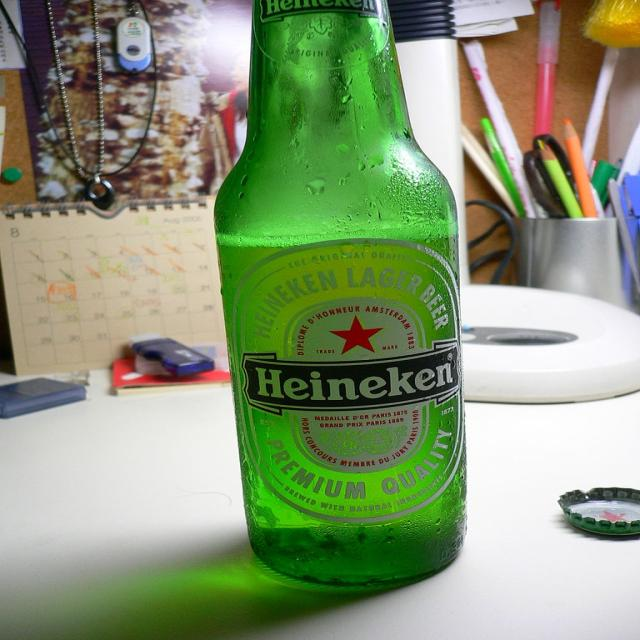heineken: (233, 241, 465, 522)
